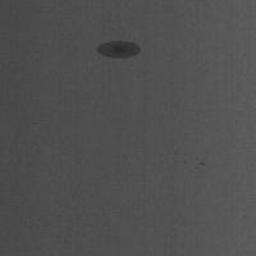Oil spot: (96, 38, 142, 60)
